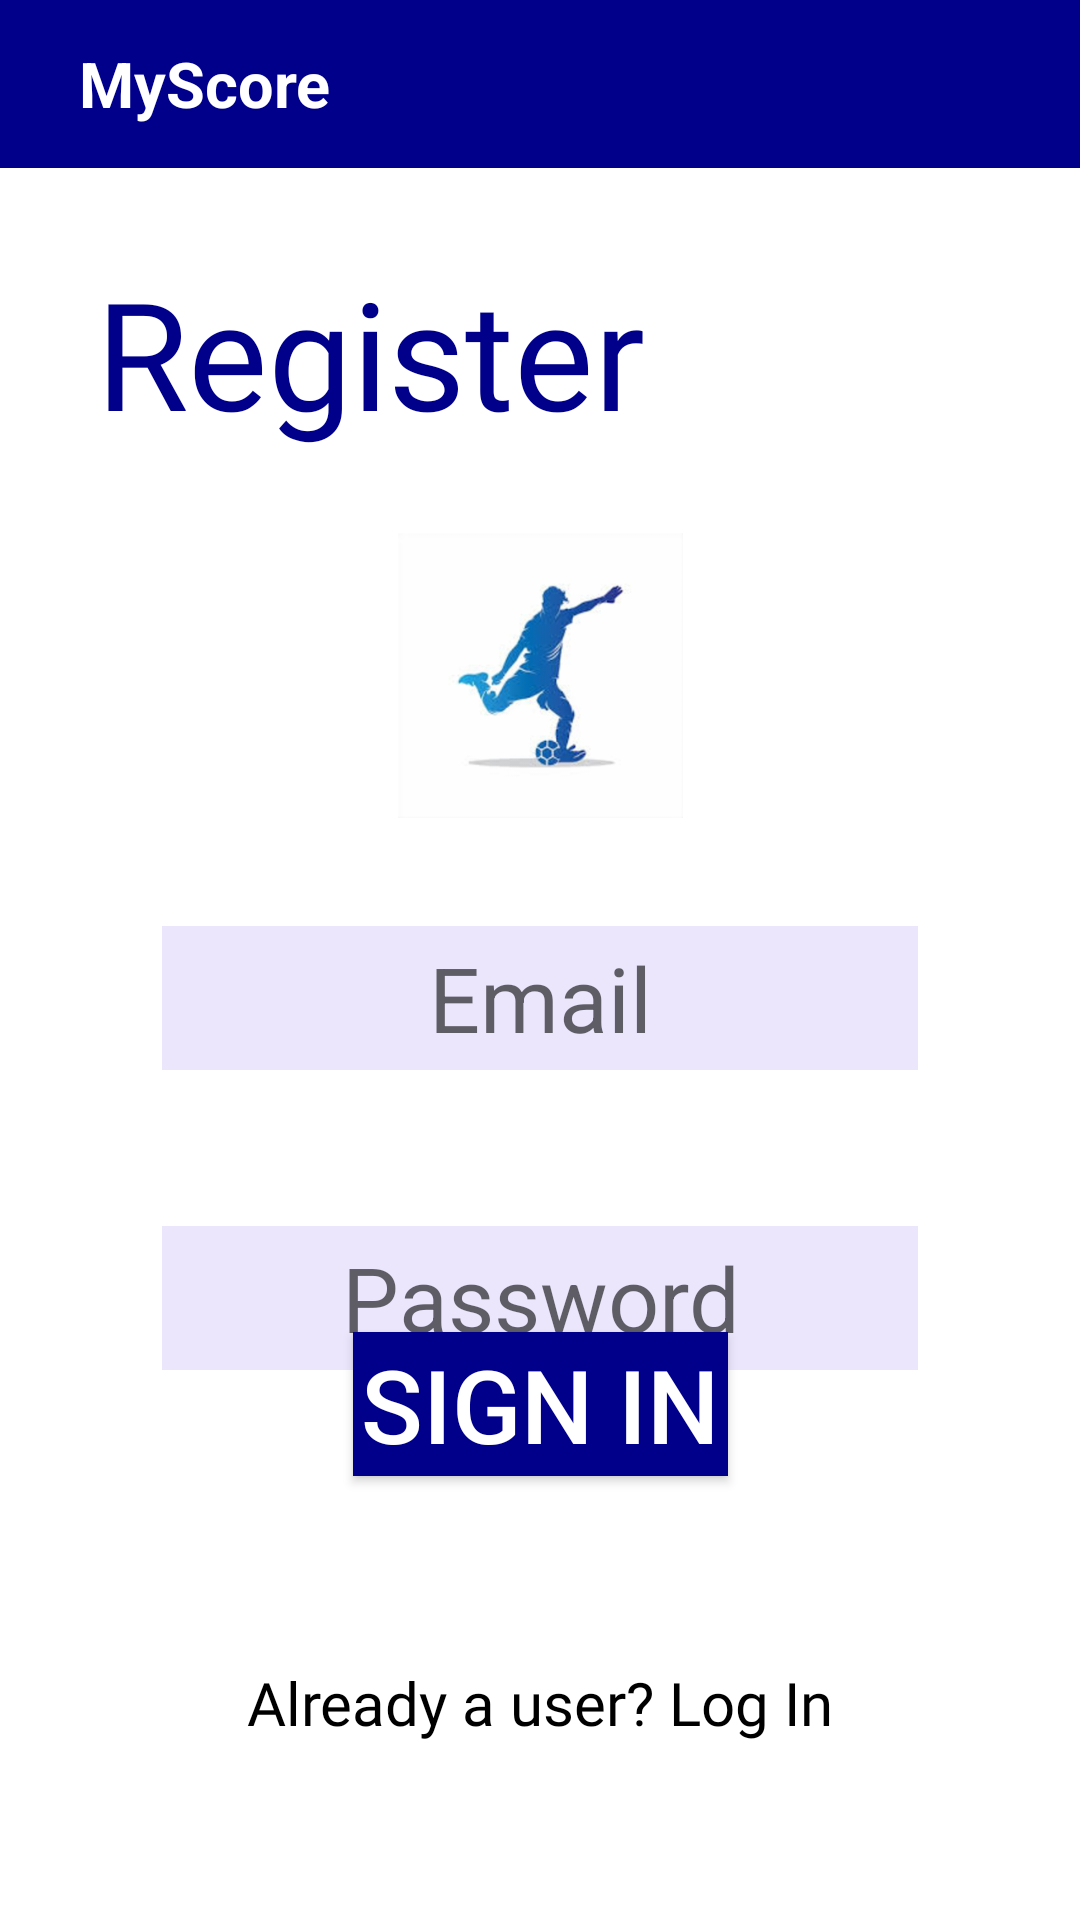

Icons on this 1080px x 1920px Android screen, each with its box as (x1, y1, x2, y2):
playerfoot: (458, 585, 623, 767)
